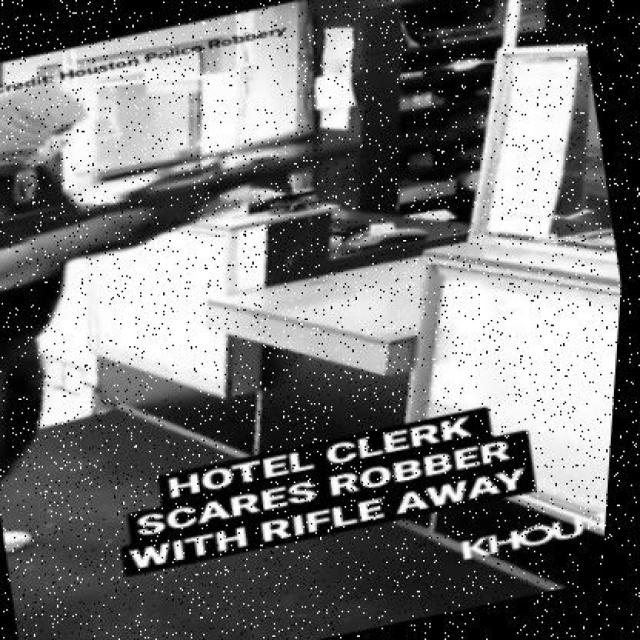weapon: (91, 126, 428, 222)
